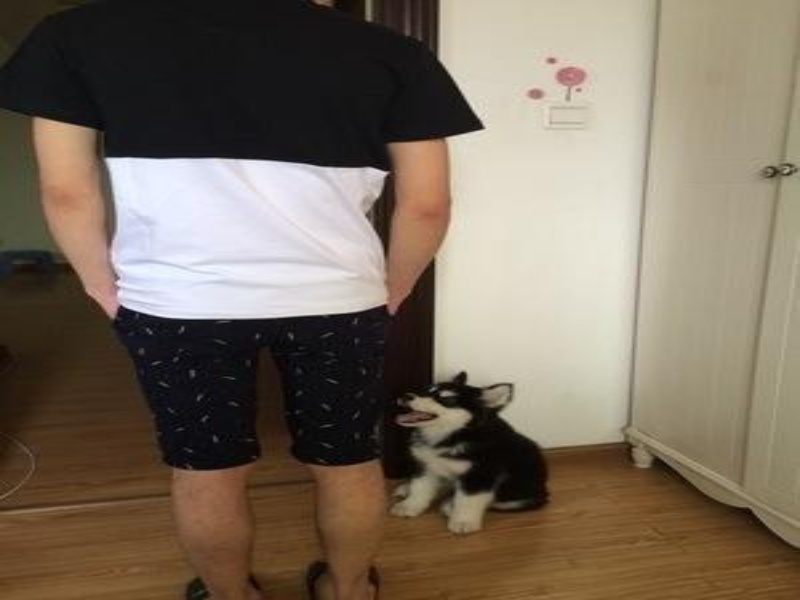short_sleeved_shirt: (0, 0, 504, 327)
shorts: (93, 250, 403, 482)
